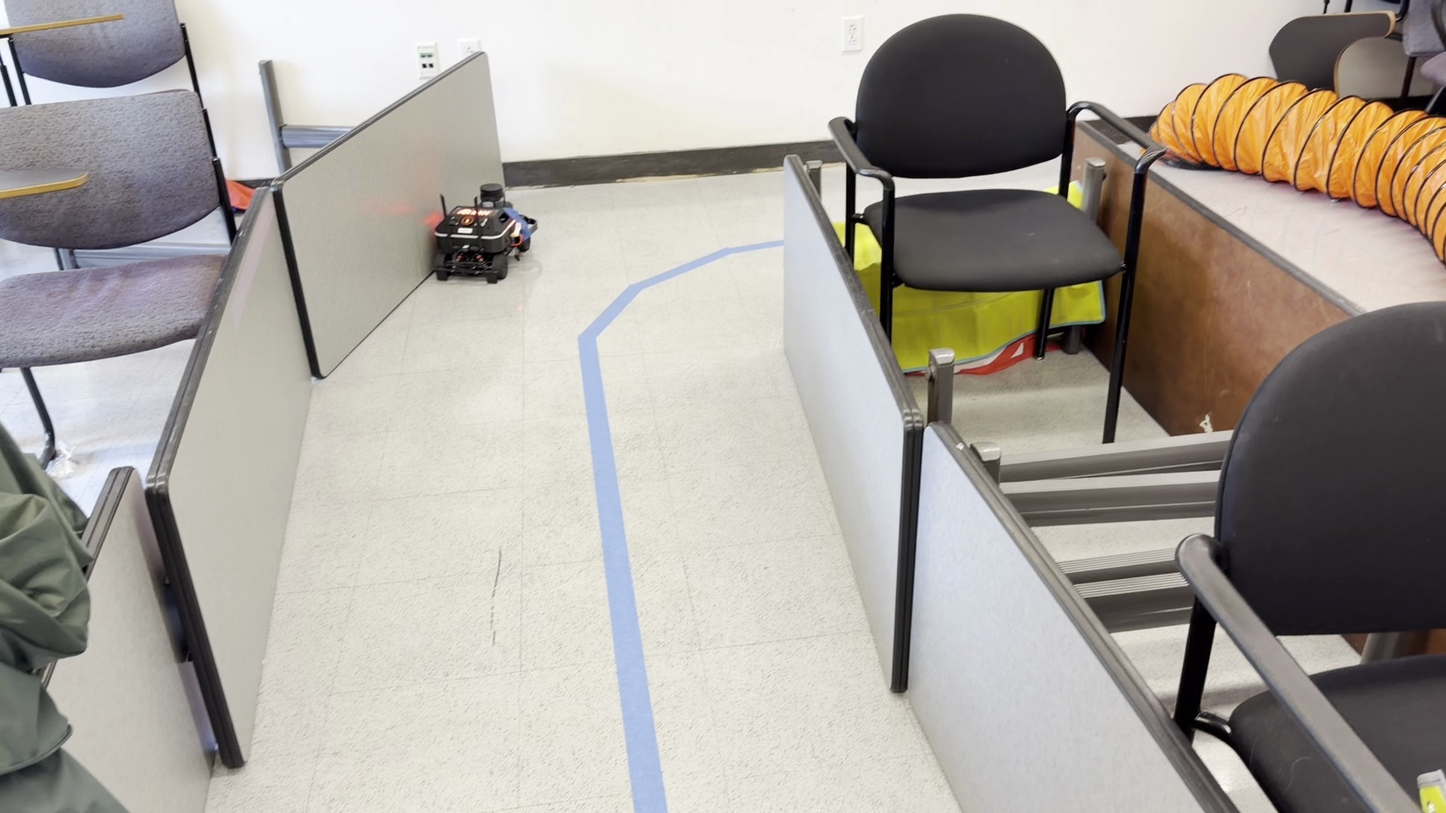racecar: (431, 188, 535, 284)
